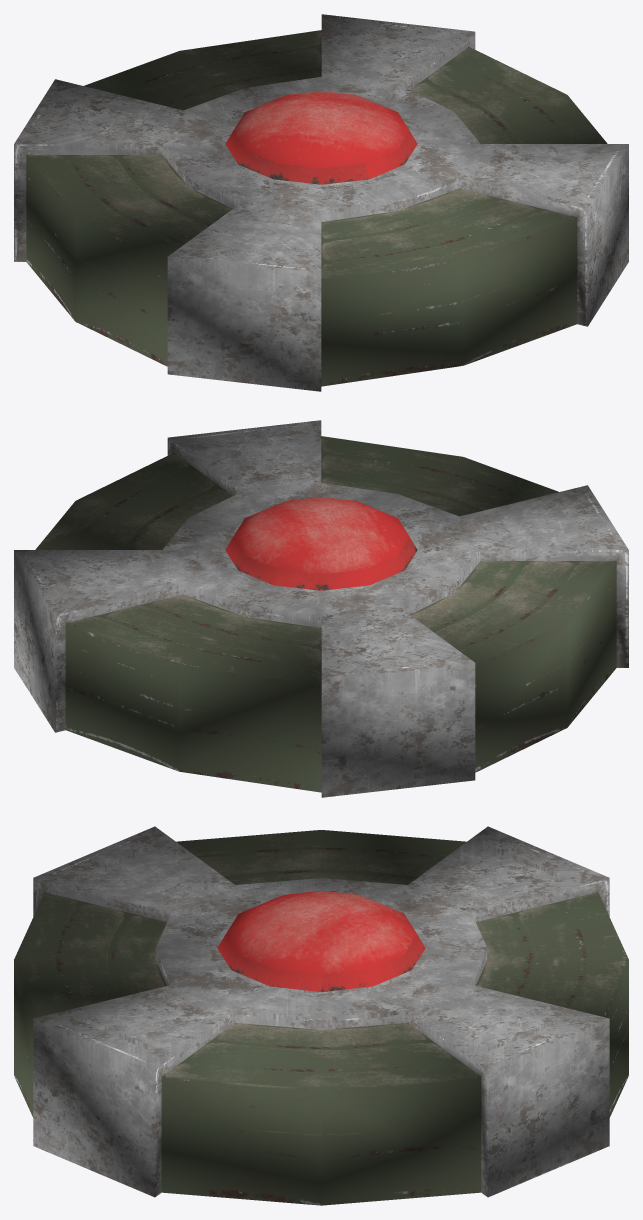
The model's file is mine.obj.
3 renders of one model, top to bottom at view 1: azimuth 30°, elevation 25°; view 2: azimuth 150°, elevation 25°; view 3: azimuth 270°, elevation 25°, orthographic. The views are drawn at different scales.
Visible parts, largest first — view 1: LP_Landmine; view 2: LP_Landmine; view 3: LP_Landmine.
Boxes of the visible parts, x1=… form: LP_Landmine: x1=14, y1=14, x2=628, y2=391; LP_Landmine: x1=14, y1=420, x2=628, y2=797; LP_Landmine: x1=14, y1=826, x2=628, y2=1205.
Size of the model in its own units: 0.481 by 0.1427 by 0.481.
Materials: 1 (1 with a texture image).
